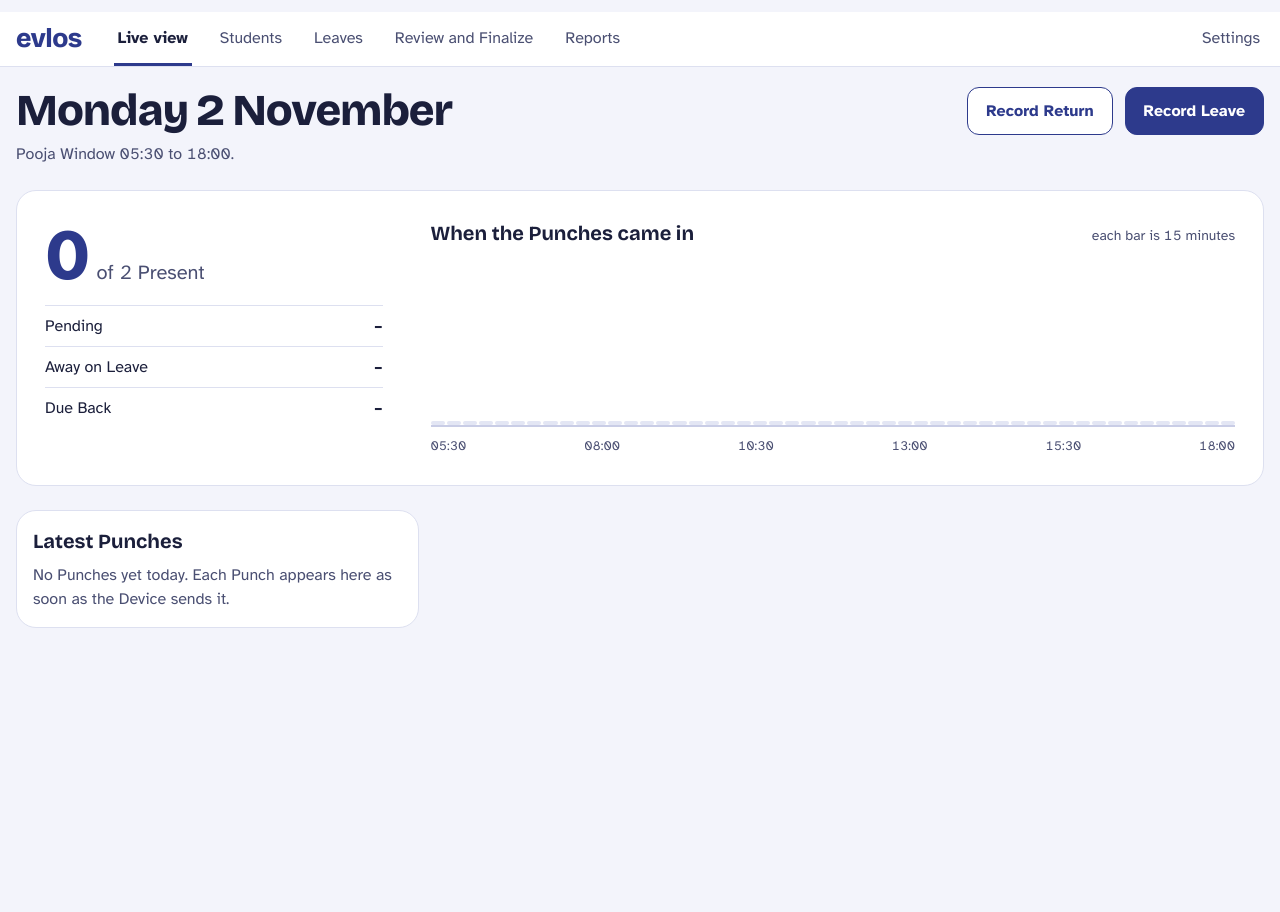
Test: menu › opens the Review and Finalize page
Expected: the text "No Punches yet" is shown, left=33, top=564, right=392, bottom=608
Click the button "Review and Finalize": (464, 39) left=391, top=12, right=537, bottom=66
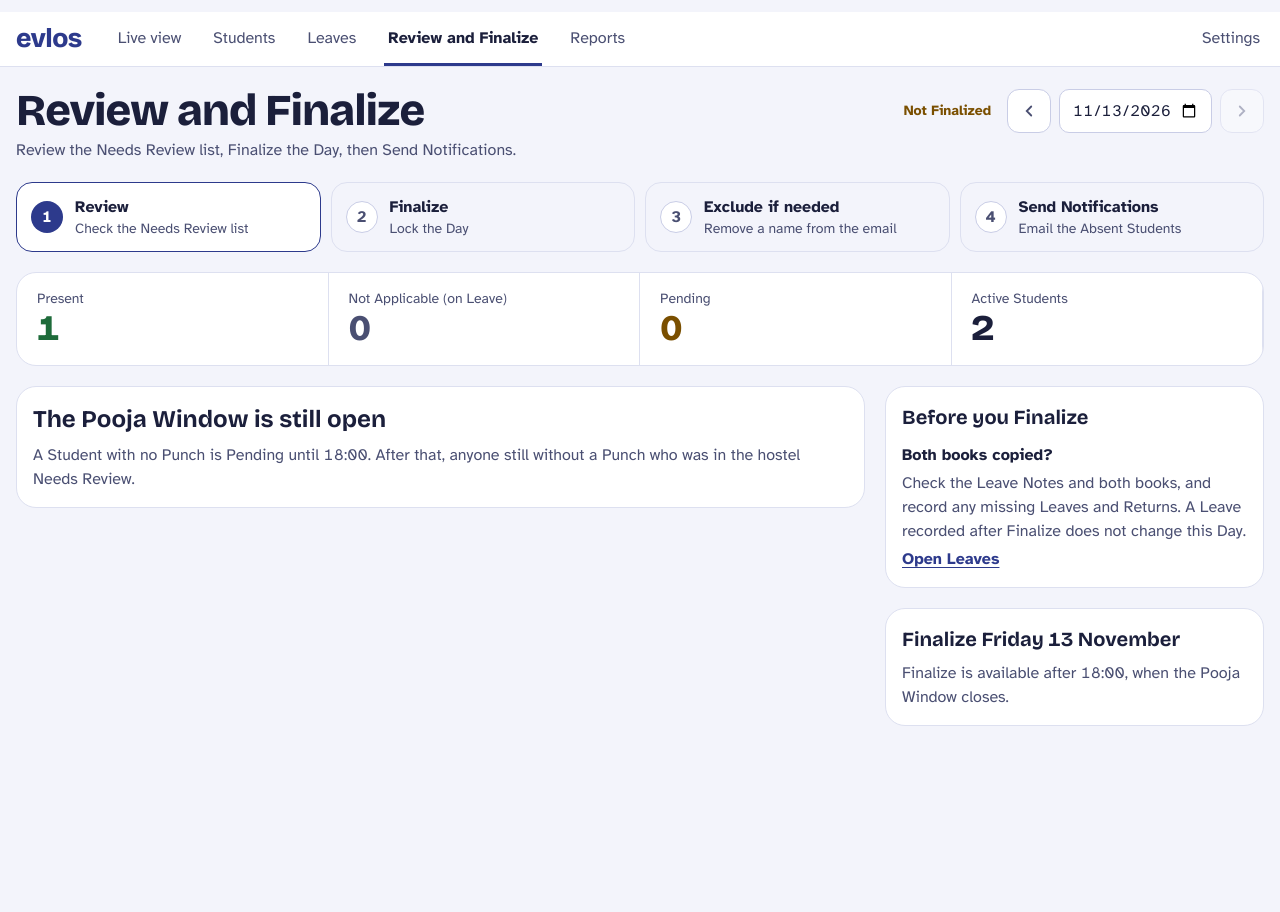
Result: the heading "Review and Finalize" is shown at left=16, top=83, right=424, bottom=138
Result: the text "Finalize is available after 18:00" is shown at left=902, top=663, right=1240, bottom=707
Result: the text "No Punches yet" is gone
